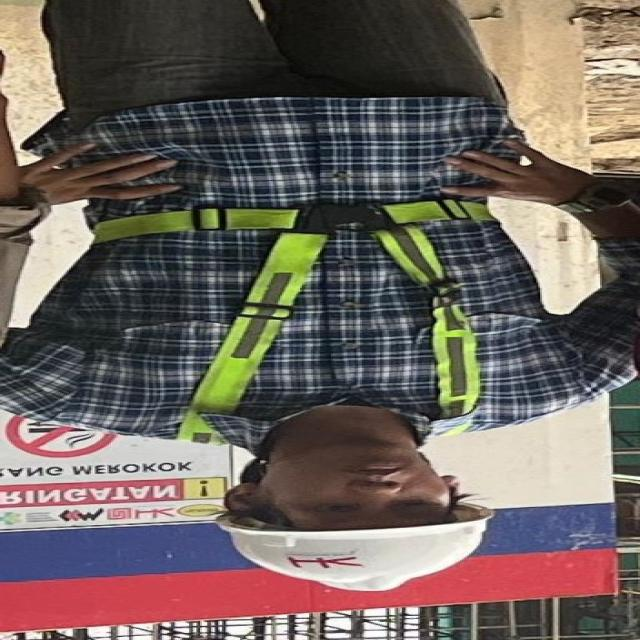safetyhelmet: (204, 476, 513, 596)
